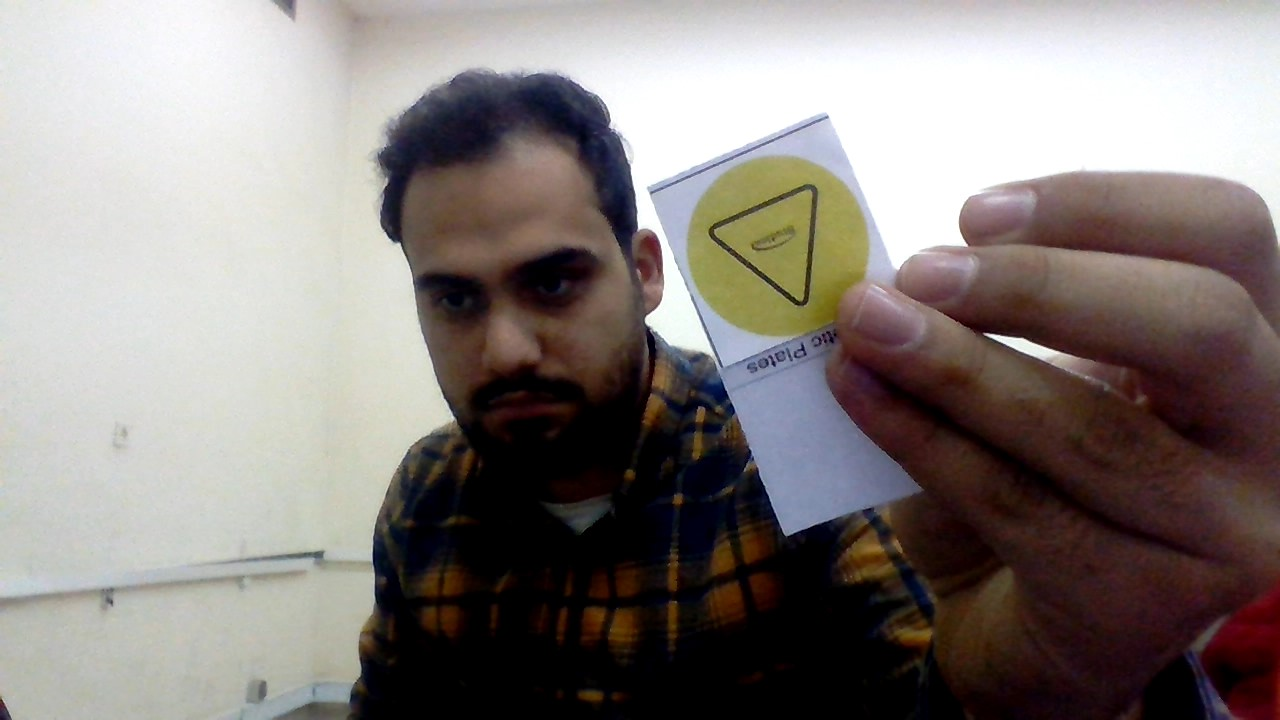hmc: (676, 161, 879, 339)
